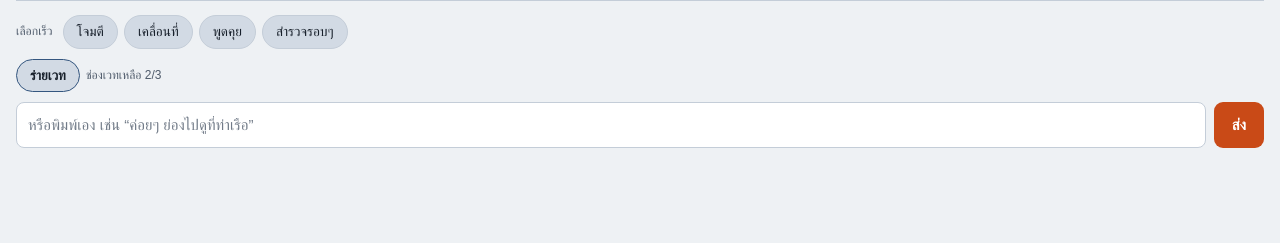
Test: ActionInput spell menu (K4) › a friend-only spell does not offer the caster
This screenshot has width=1280, height=243.
What coordinates should you click on to do the following:
click the button "ร่ายเวท"
I would click on:
 (48, 75)
Its box is [16,59,80,92].
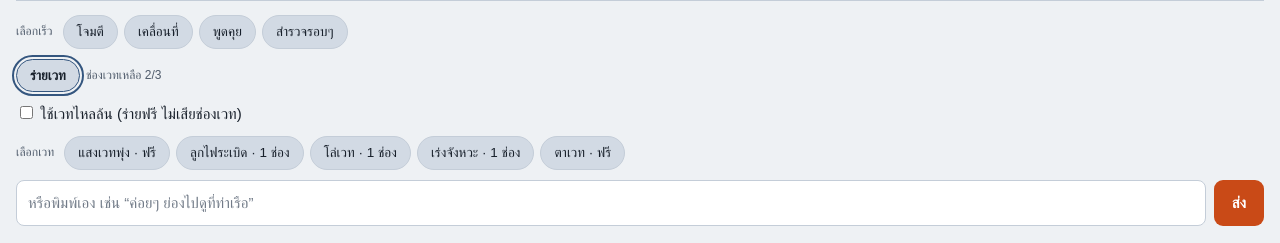
What coordinates should you click on to do the following:
click the button "เร่งจังหวะ · 1 ช่อง"
I would click on:
 (476, 153)
Its box is [417,136,534,170].
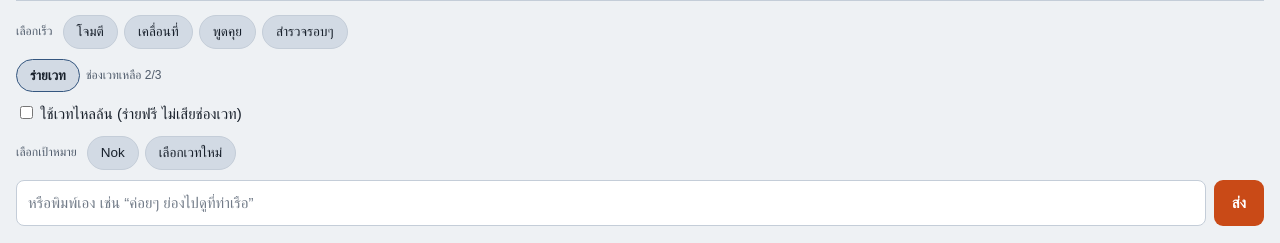
expect the button "Nok" is shown: met, box [87,136,139,170]
